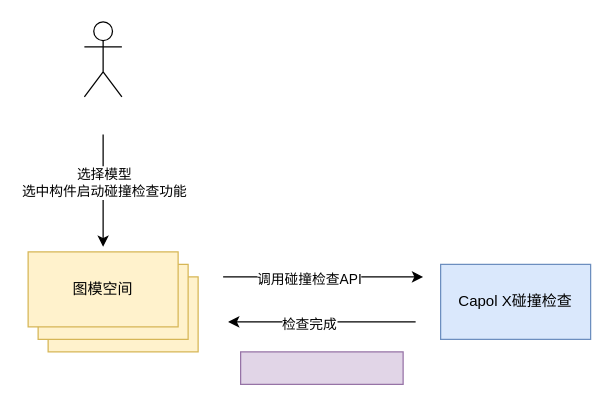
This 613x406 diagram has some shape labels left out. Each missing label, with the centre of its shape:
Actor: the point at 102,59
生成碰撞检查记录: the point at 321,367
